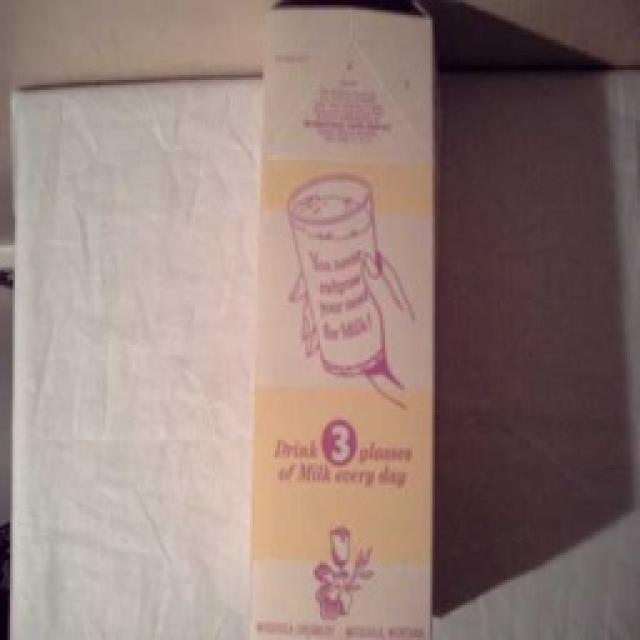box: (10, 97, 640, 640), (270, 8, 450, 640)
